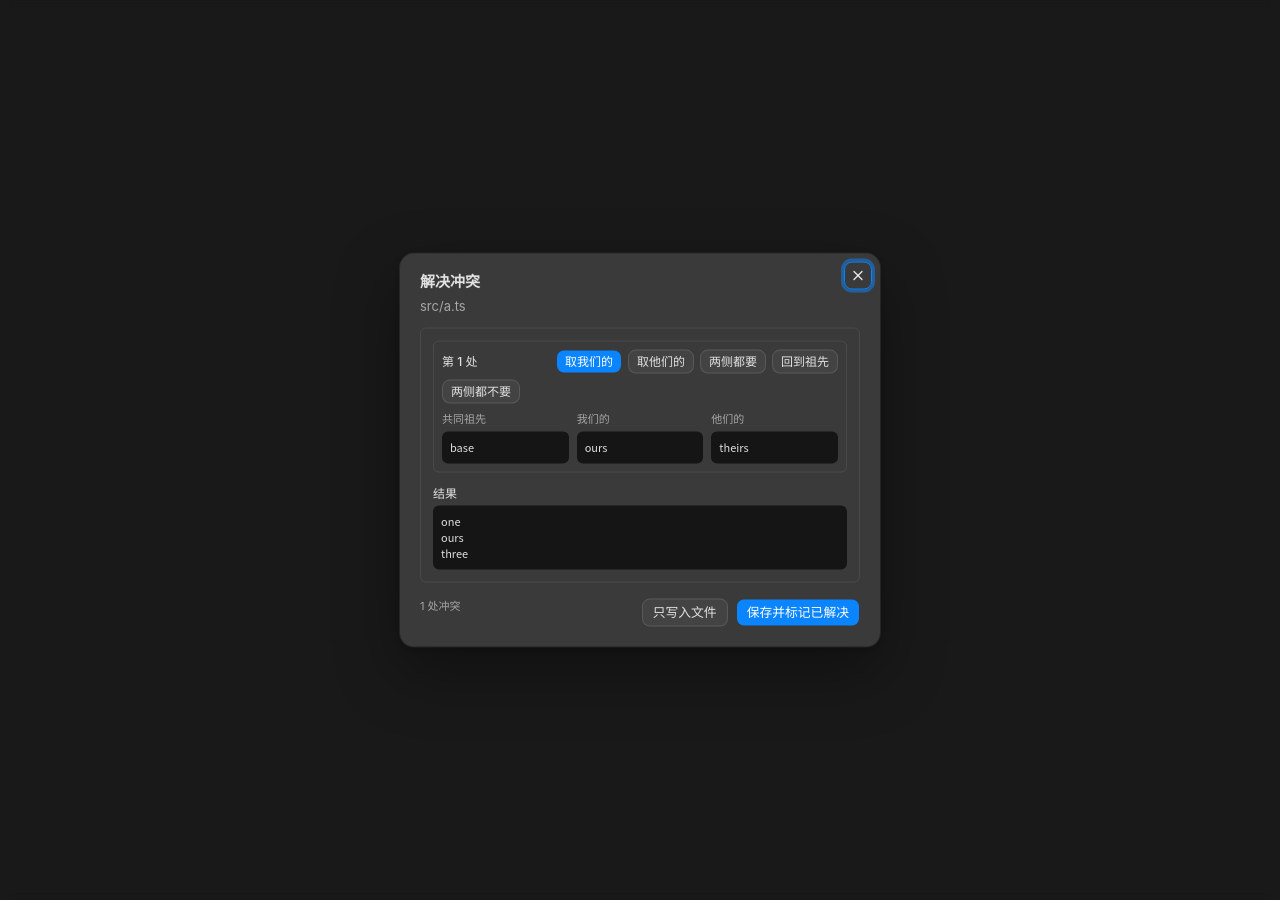
Test: MergeDialog › shows the refusal from mark-resolved, which carries the line numbers
Step 1. Click the button "保存并标记已解决" → (798, 612), box [736, 598, 860, 626]
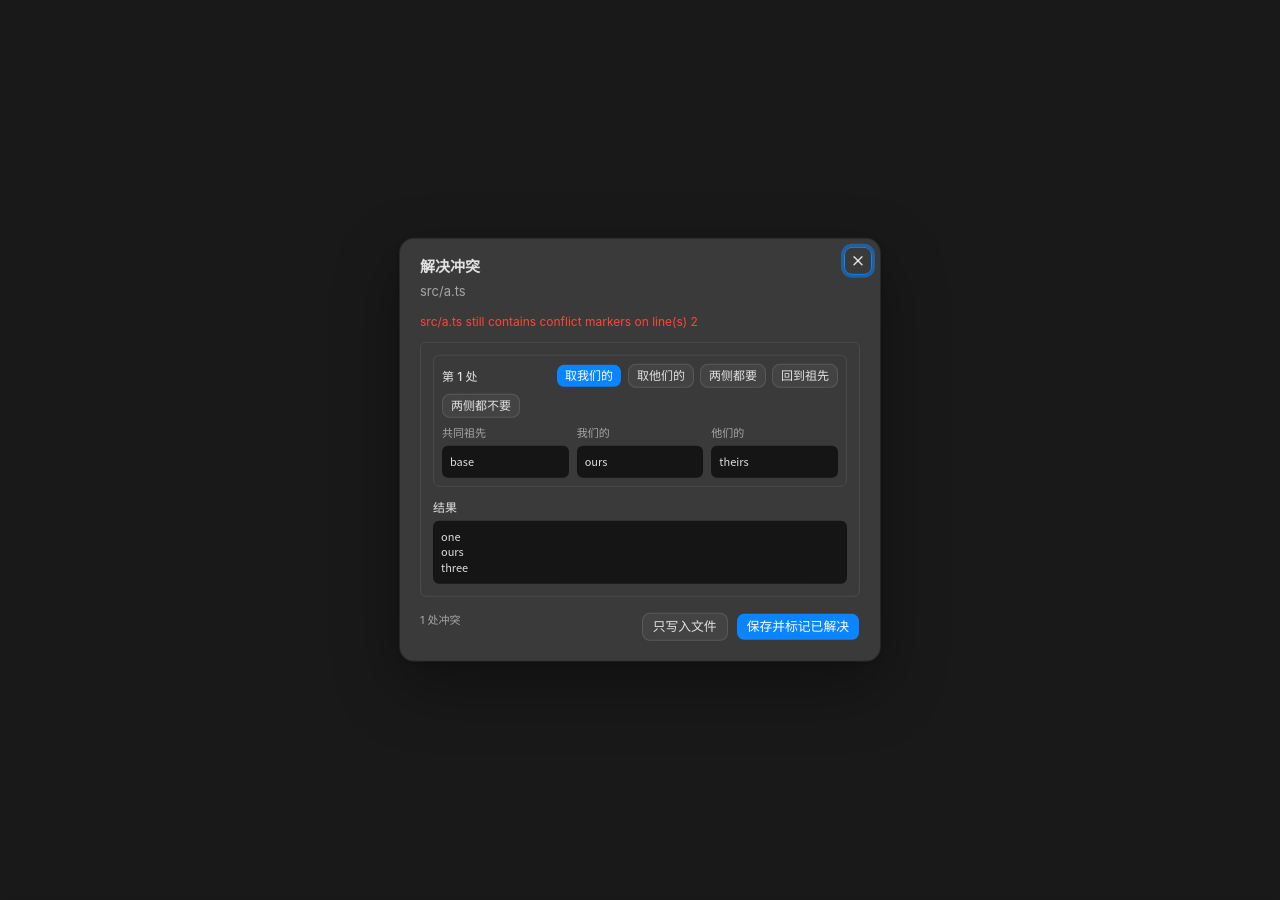
Check: the text "src/a.ts still contains conflict markers on line(s) 2" is shown, box [420, 314, 698, 329]
